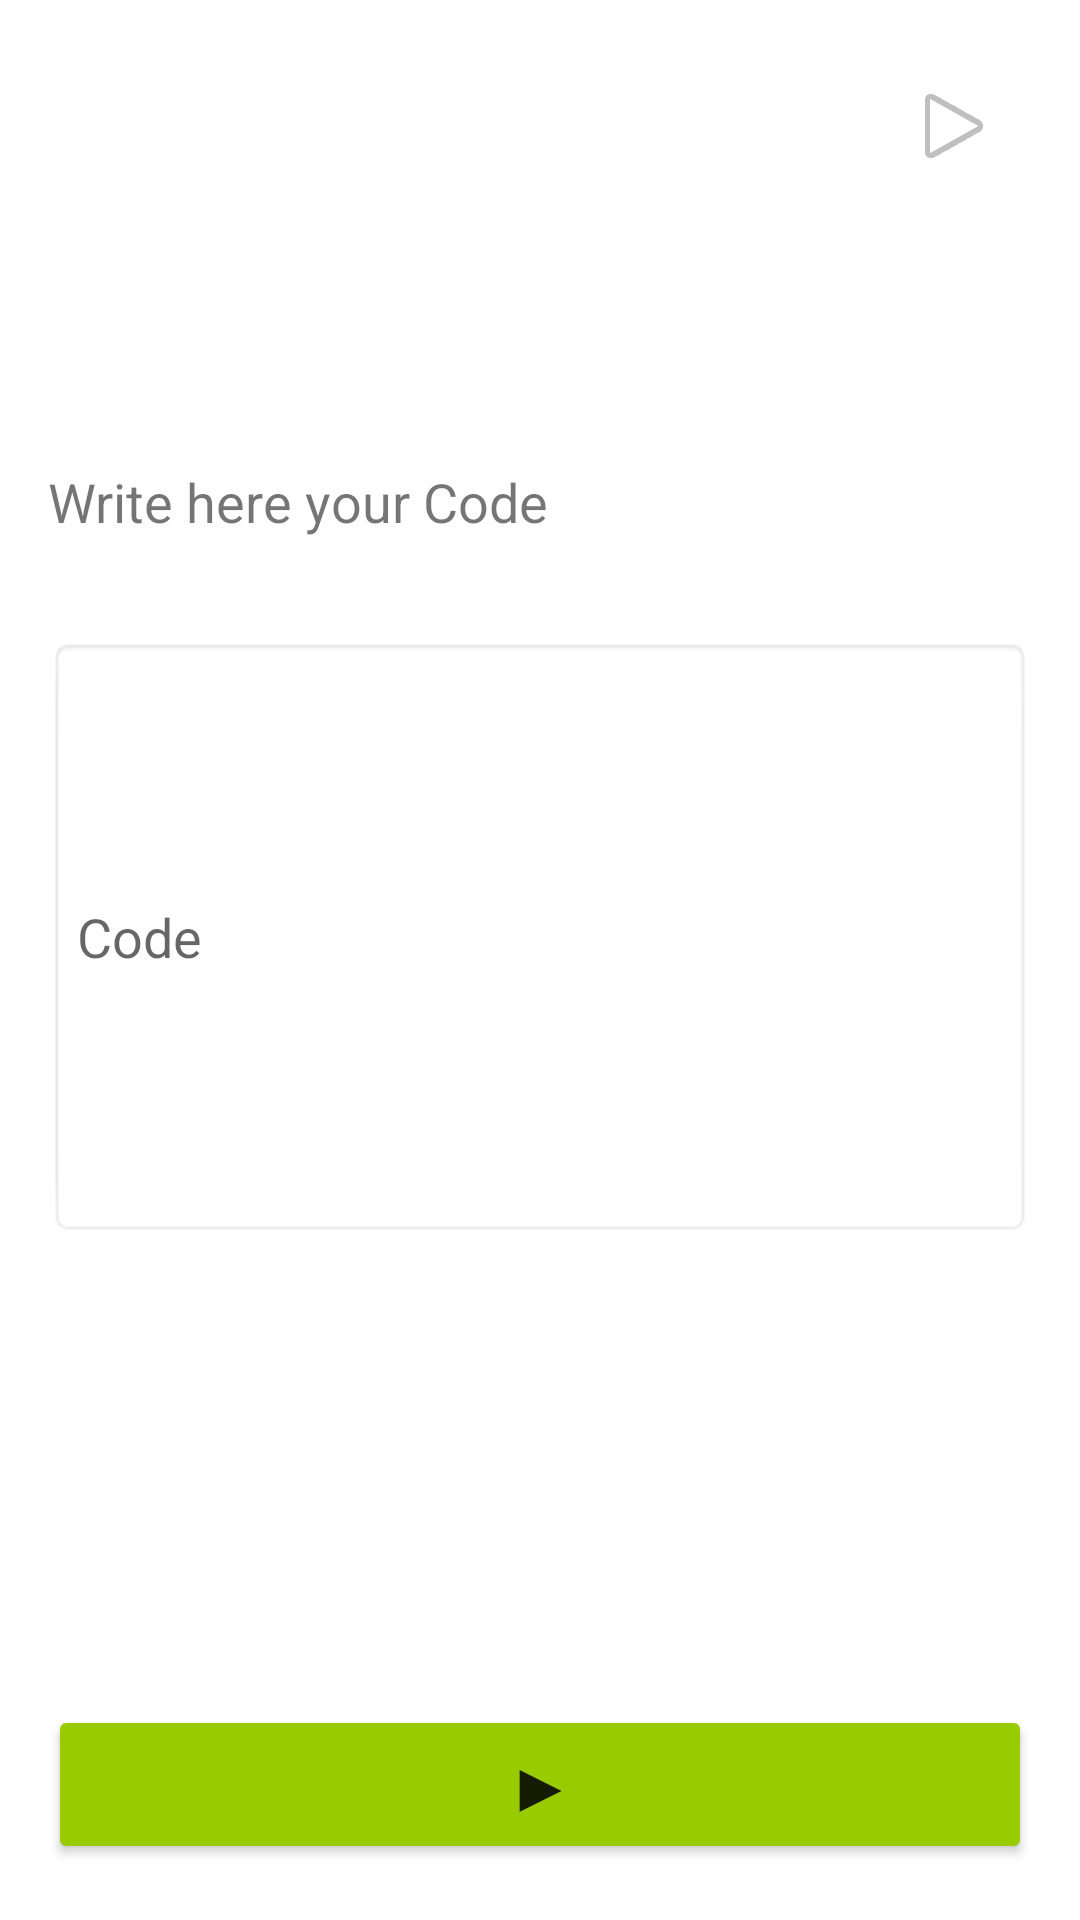

Where to tap for icons on this 1080×1920 app screen, as point (x, y):
play: point (954, 126)
